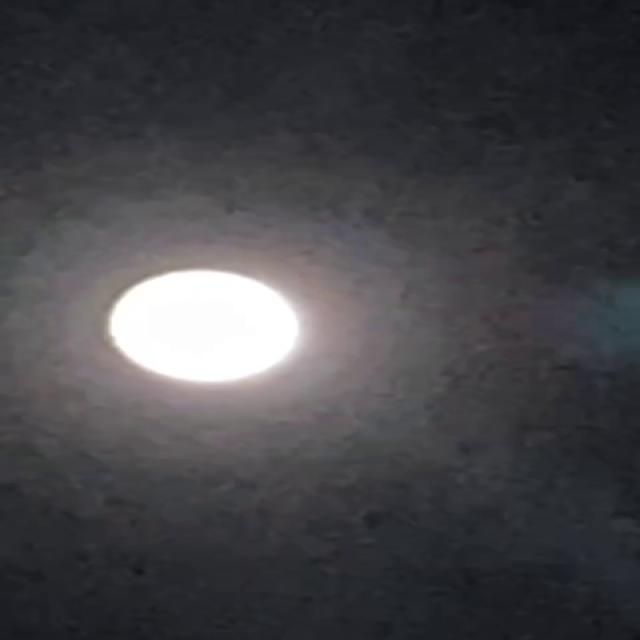moon: (96, 265, 323, 386)
